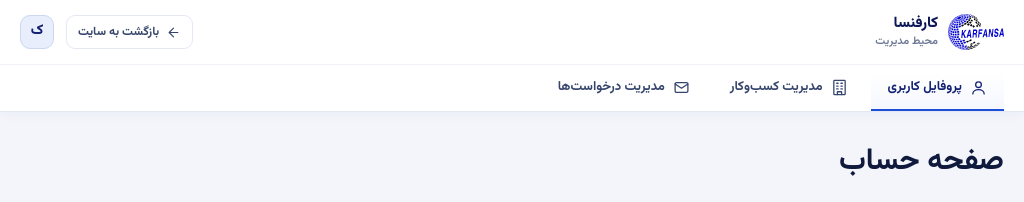
Test: ManagementLayout › keeps the shared header mounted and marks the active section during navigation
The width and height of the screenshot is (1024, 202).
Click the link "مدیریت کسب‌وکار": (789, 87) [730,77,848,97]
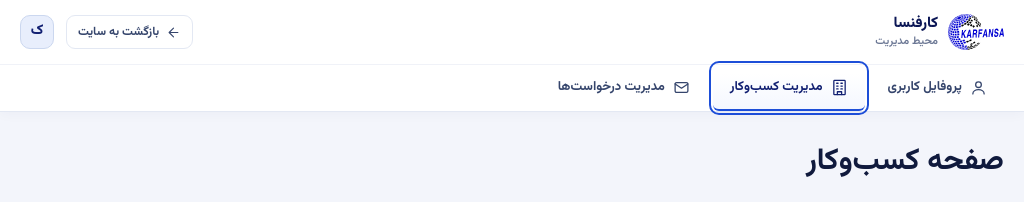
Expected: the heading "صفحه کسب‌وکار" is shown, [806,138,1004,185]
Click the link "مدیریت درخواست‌ها": (624, 87) [558,77,690,97]
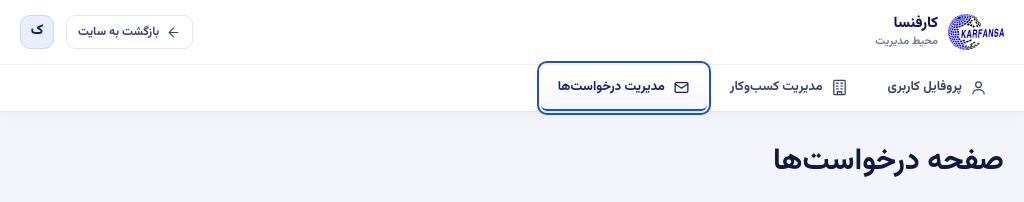
Expected: the heading "صفحه درخواست‌ها" is shown, [773,138,1004,185]
